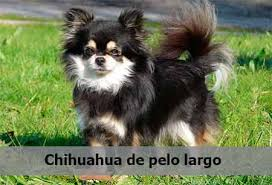chihuahua: (46, 4, 238, 150)
